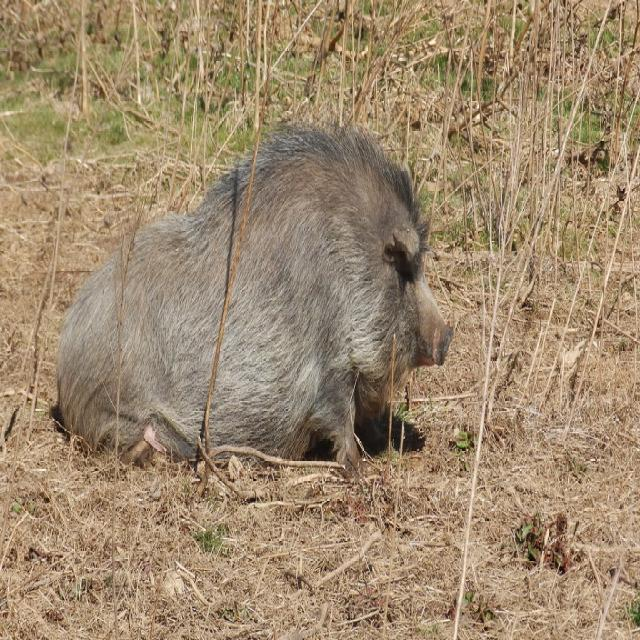Pig: (55, 112, 454, 480)
